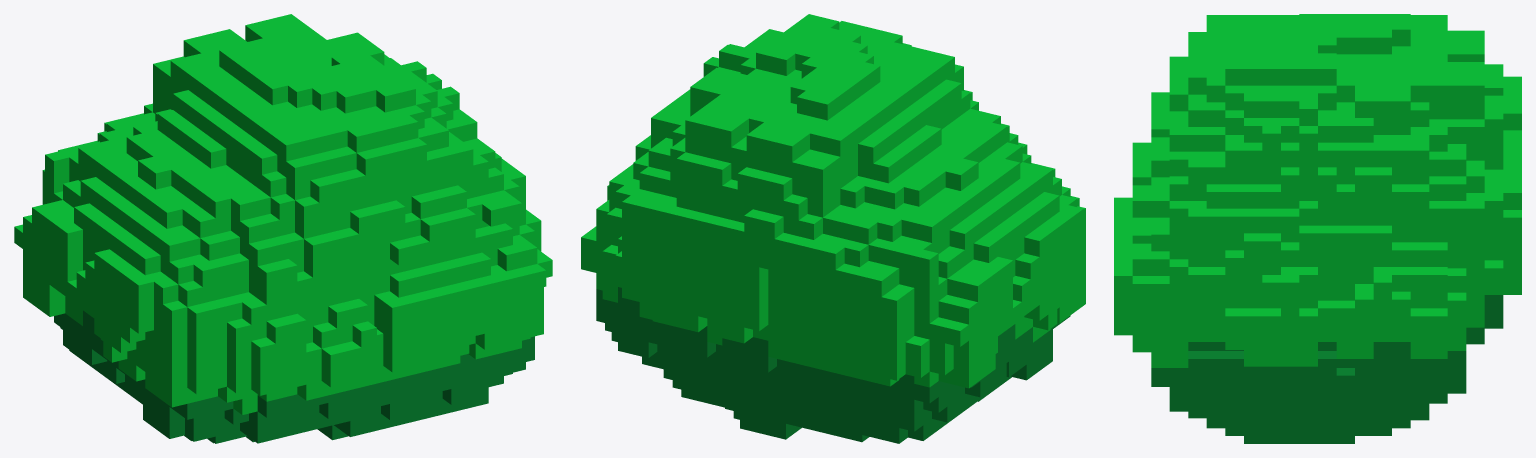
Rendered from nat_canopy_tall.obj.
3 views of the same model, side by side, from view 1: azimuth 30°, elevation 25°; view 2: azimuth 150°, elevation 25°; view 3: azimuth 270°, elevation 25° (orthographic). The views are drawn at different scales.
Size of the model in its own units: 0.95 by 0.7308 by 0.8038.
